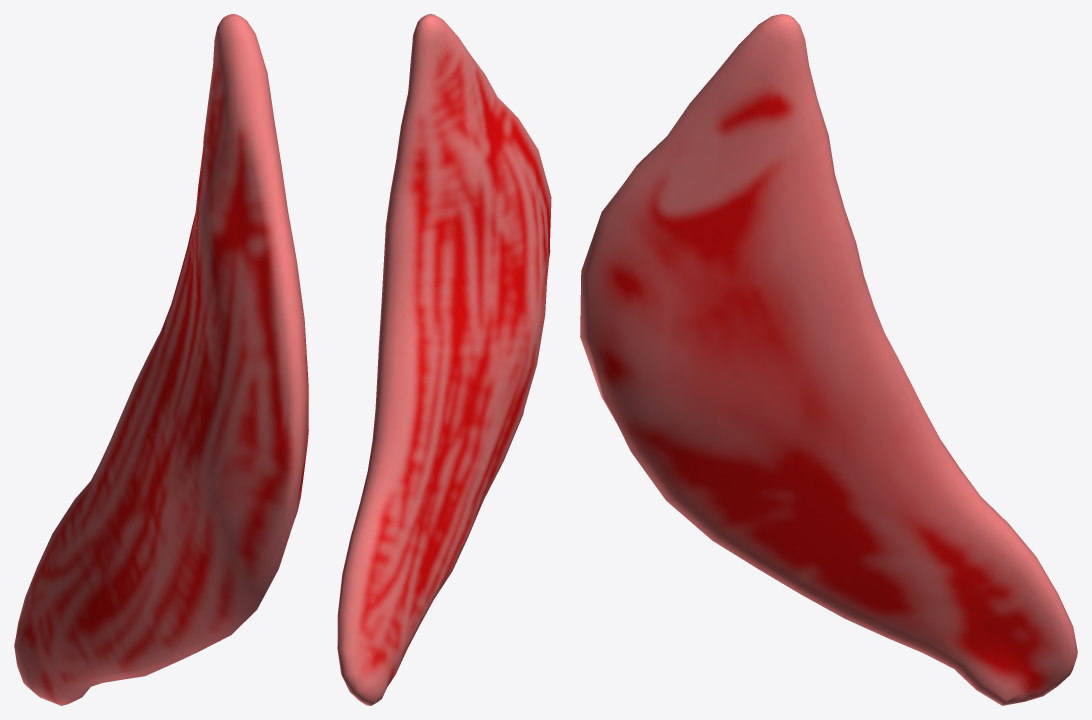
File: Tricep.glb
3 renders of one model, left to right at view 1: azimuth 30°, elevation 25°; view 2: azimuth 150°, elevation 25°; view 3: azimuth 270°, elevation 25°, orthographic. The views are drawn at different scales.
Parts seen in each view (by area): view 1: MuscleTricep_R1.009; view 2: MuscleTricep_R1.009; view 3: MuscleTricep_R1.009.
Part boxes in pixels (x1,y1,x2,y2): MuscleTricep_R1.009: (14, 14, 308, 705); MuscleTricep_R1.009: (337, 14, 551, 705); MuscleTricep_R1.009: (580, 14, 1077, 705).
Size of the model in its own units: 0.0399 by 0.2515 by 0.159.
Materials: 1 (1 with a texture image).
